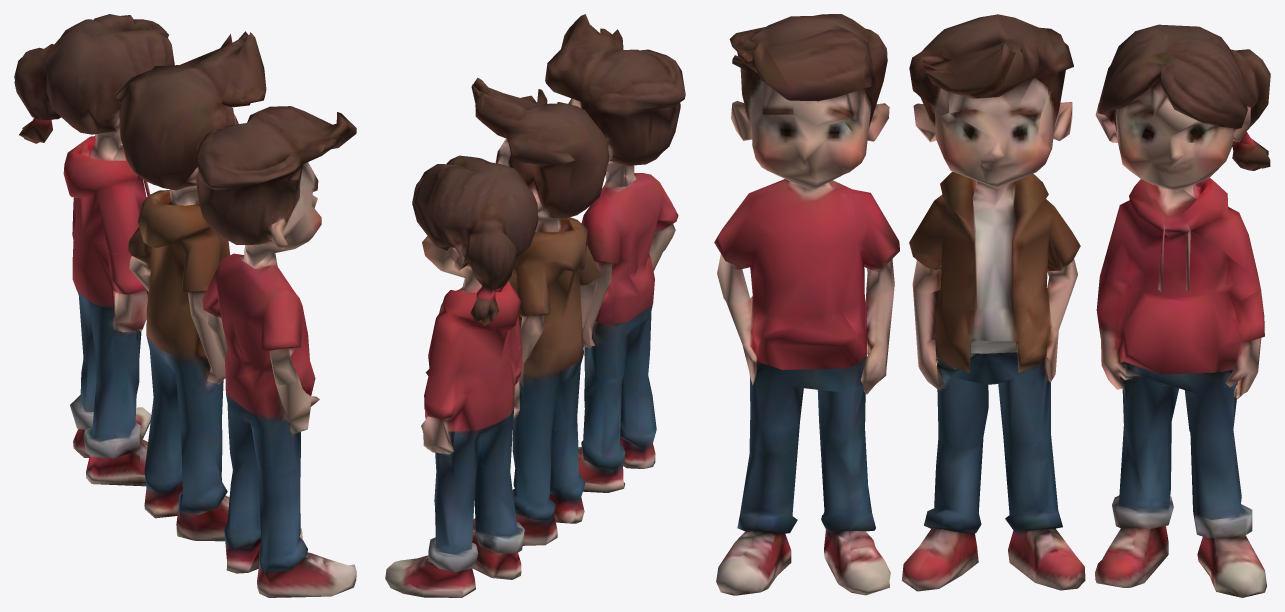
File: spectators.glb
3 renders of one model, left to right at view 1: azimuth 30°, elevation 25°; view 2: azimuth 150°, elevation 25°; view 3: azimuth 270°, elevation 25°, orthographic. The views are drawn at different scales.
Visible parts, largest first — view 1: tripo_node_43aaf7ff-6b82-4902-b6a7-37103ee64dc4; view 2: tripo_node_43aaf7ff-6b82-4902-b6a7-37103ee64dc4; view 3: tripo_node_43aaf7ff-6b82-4902-b6a7-37103ee64dc4.
Boxes of the visible parts, x1,y1,x2,y2 form: tripo_node_43aaf7ff-6b82-4902-b6a7-37103ee64dc4: [14, 14, 356, 597]; tripo_node_43aaf7ff-6b82-4902-b6a7-37103ee64dc4: [385, 14, 685, 597]; tripo_node_43aaf7ff-6b82-4902-b6a7-37103ee64dc4: [714, 14, 1270, 597].
Size of the model in its own units: 0.3149 by 0.9993 by 0.8942.
1 material, 1 textured.
